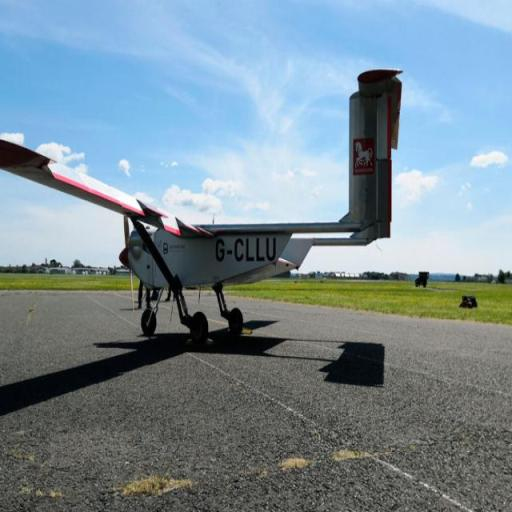uav: (0, 66, 426, 344)
